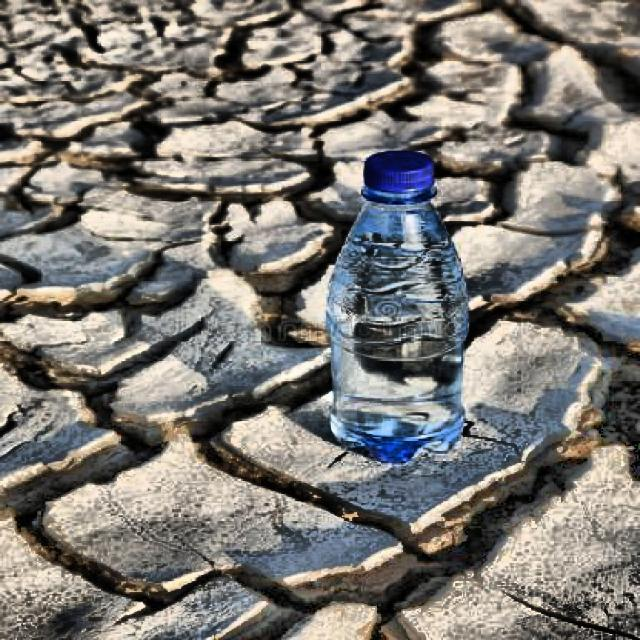Bottles: (302, 142, 489, 461)
